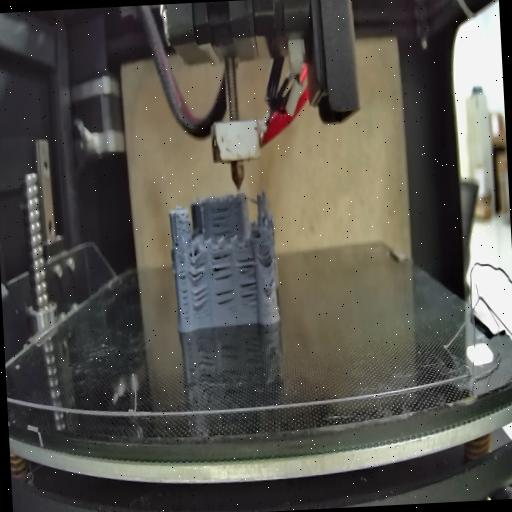cracks: (236, 252, 258, 310), (178, 258, 190, 326), (210, 252, 234, 284), (210, 204, 232, 238), (186, 253, 208, 283), (192, 286, 214, 312), (215, 285, 236, 312), (263, 246, 275, 264), (269, 274, 277, 296), (174, 234, 180, 251)
